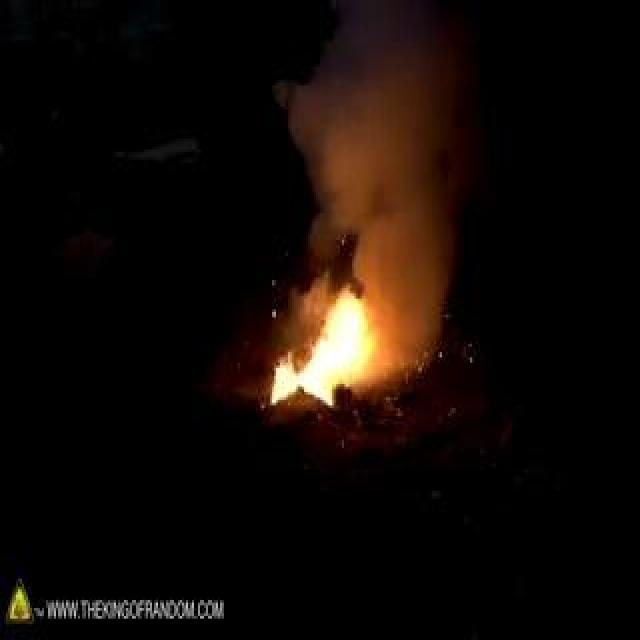Fire: (122, 130, 321, 342)
